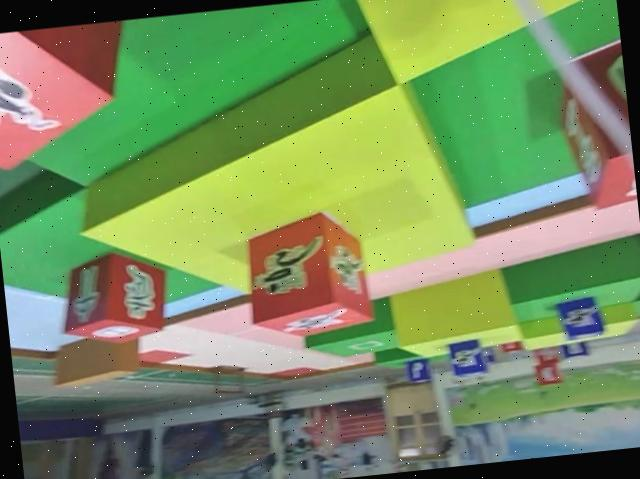R1: (0, 19, 139, 177), (239, 206, 377, 345)
R2 Fake: (54, 246, 174, 351)
